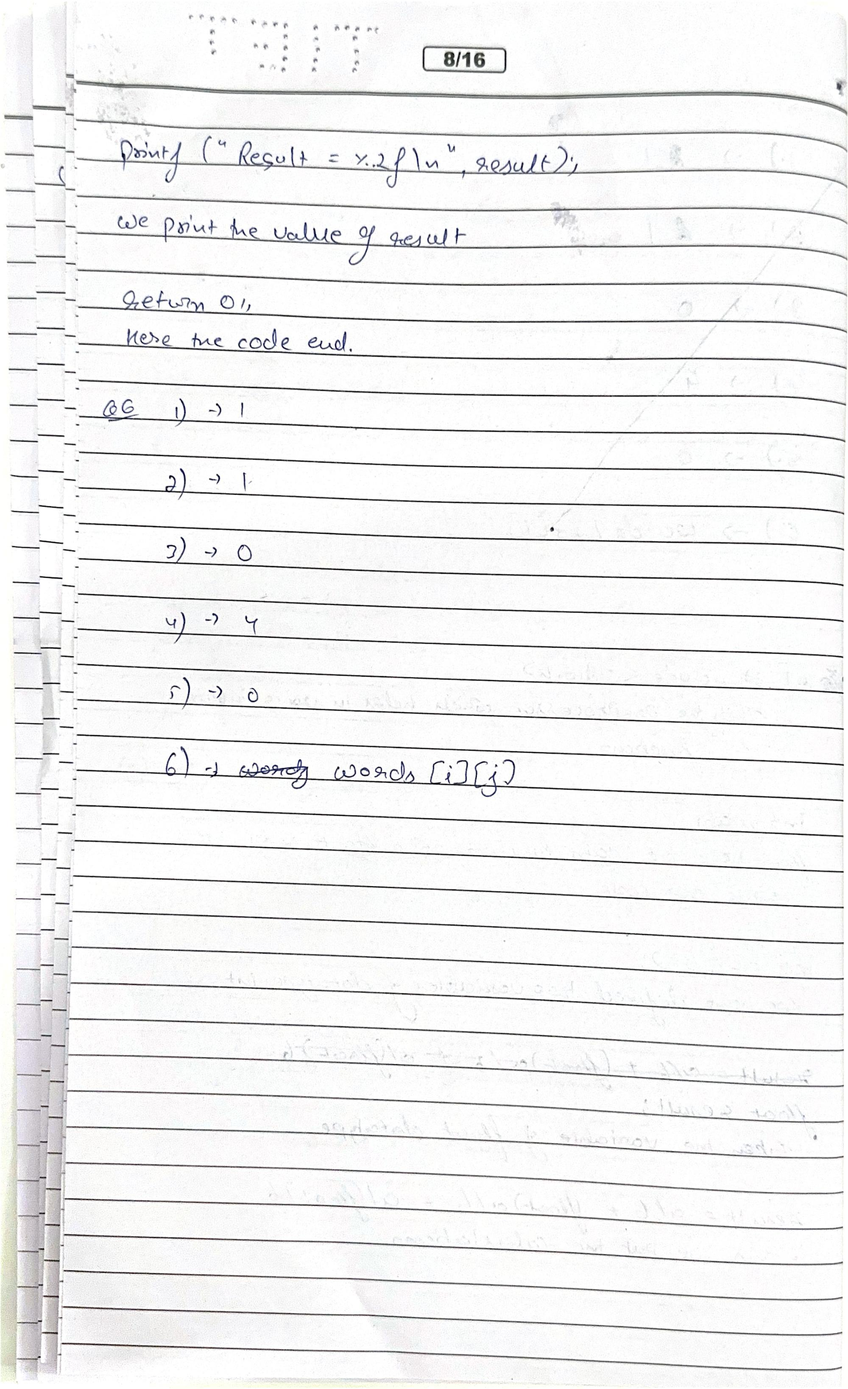cuttings: (239, 758, 310, 790)
